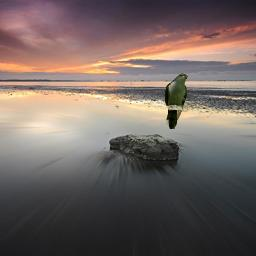Cuckoo: (164, 73, 188, 129)
